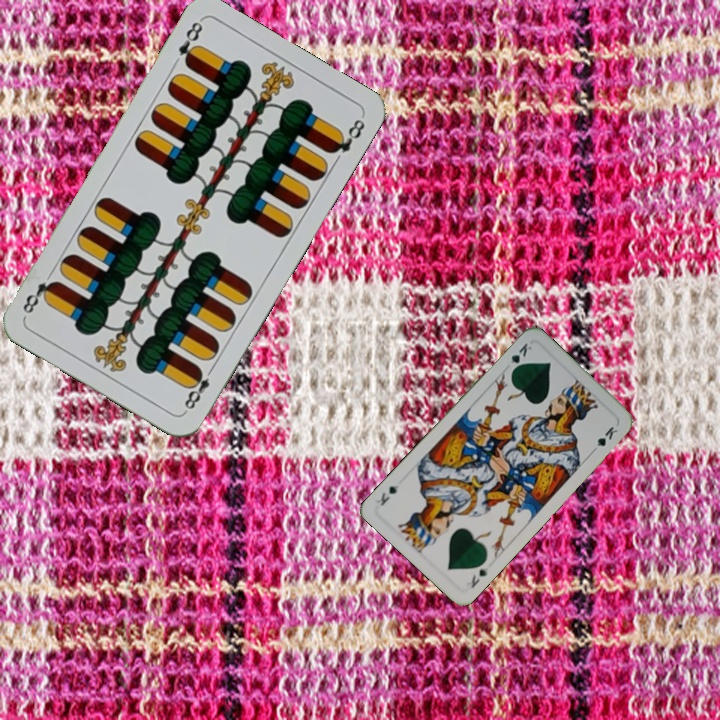E8: (180, 362, 217, 412), (174, 17, 206, 70)
GK: (506, 339, 534, 375), (467, 562, 491, 591)
